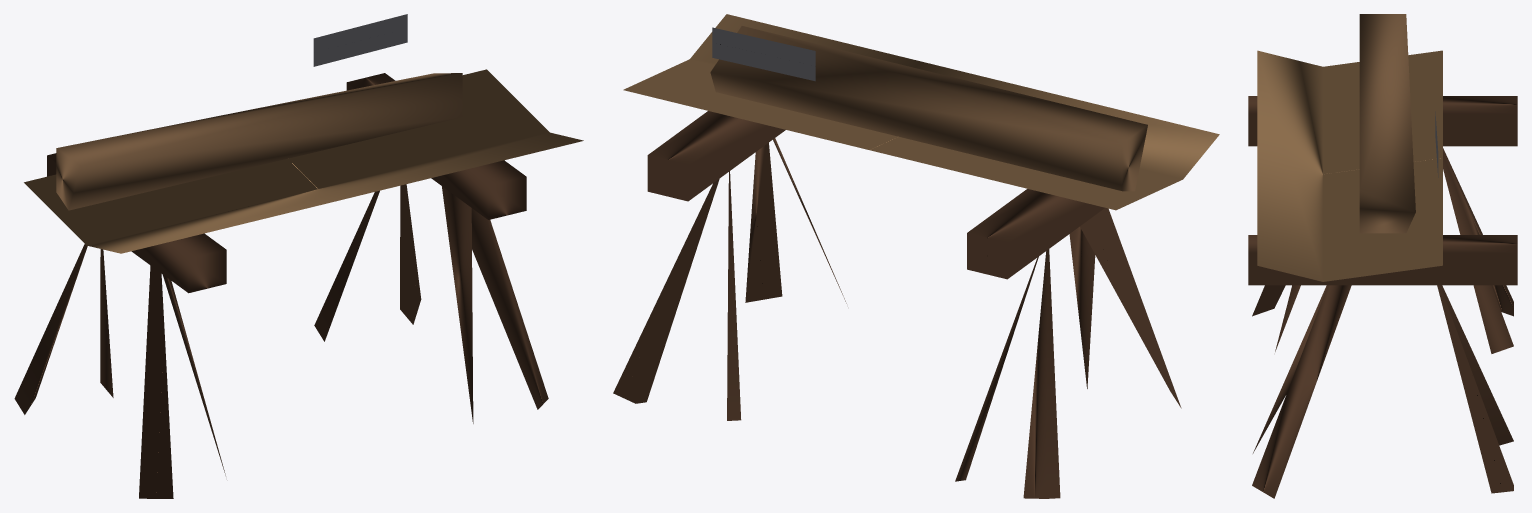
Rendered from sawhorse_bench_lod1.glb.
3 renders of one model, left to right at view 1: azimuth 30°, elevation 25°; view 2: azimuth 150°, elevation 25°; view 3: azimuth 270°, elevation 25°, orthographic. The views are drawn at different scales.
Bounding box in the file's own units: 1.7 × 1.19 × 0.9.
